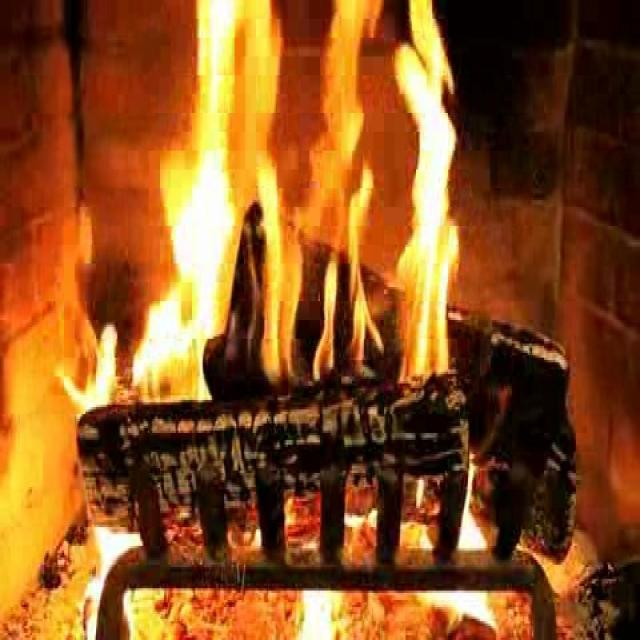Fire: (152, 6, 464, 390)
